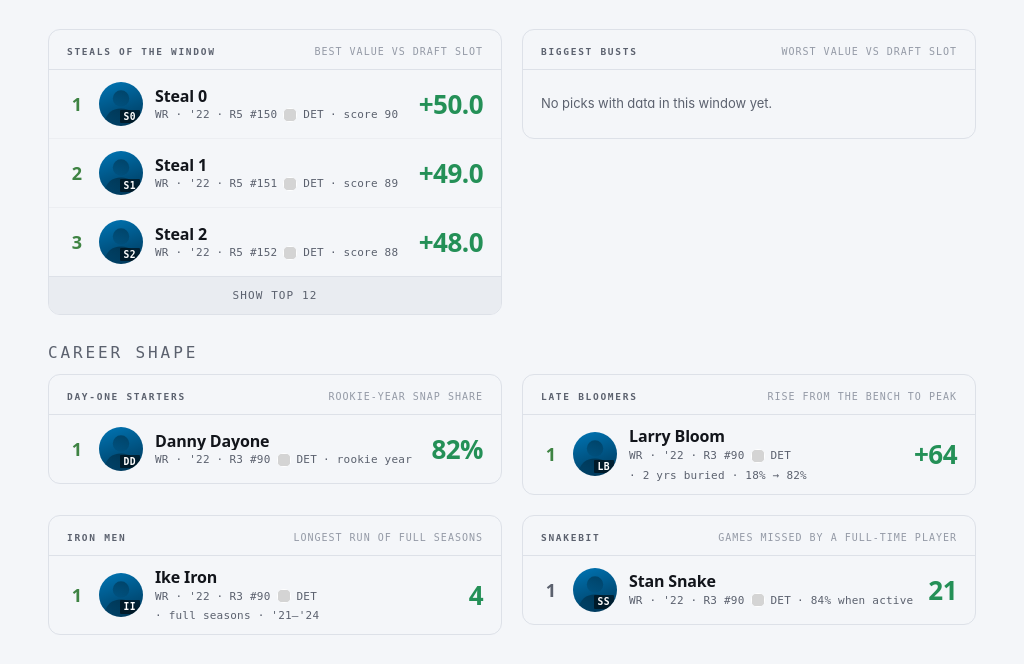
Test: HighlightsView › collapses long lists to three rows and expands on demand
(page scrolled)
Expected: the text "Steal 0" is shown, [155,85,207,107]
Expected: the text "Steal 2" is shown, [155,223,207,245]
What coordinates should you click on to do the following:
click the button "Show top 12"
I would click on:
 (275, 295)
Its box is [49,276,501,314].
(page scrolled)
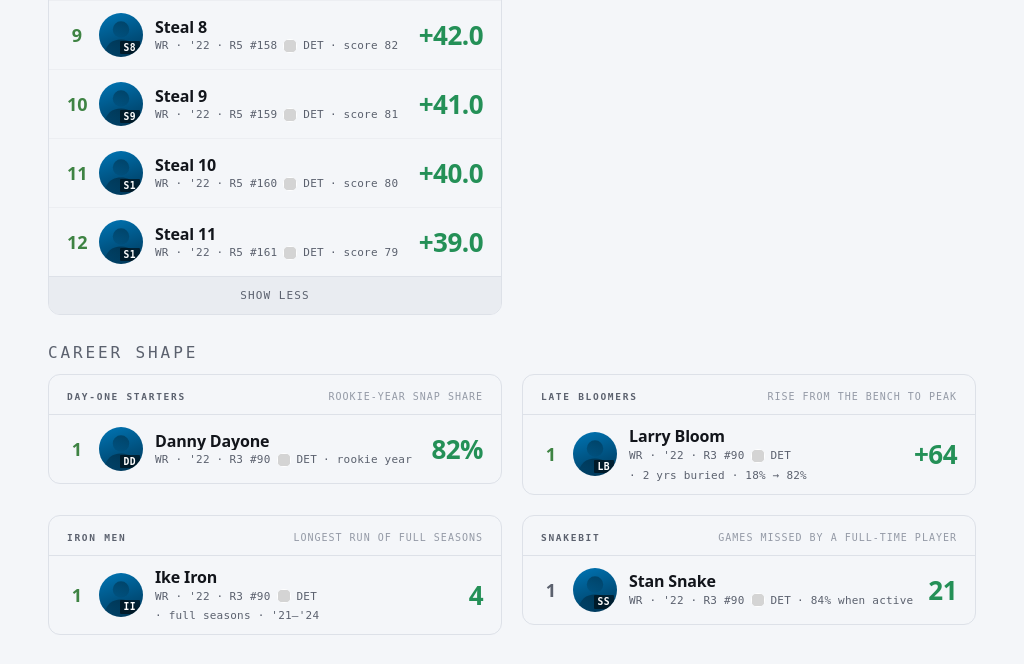
Now the text "Steal 11" is shown, box [155,223,216,245]
What coordinates should you click on to do the following:
click the button "Show less"
I would click on:
 (275, 295)
Its box is [49,276,501,314].
(page scrolled)
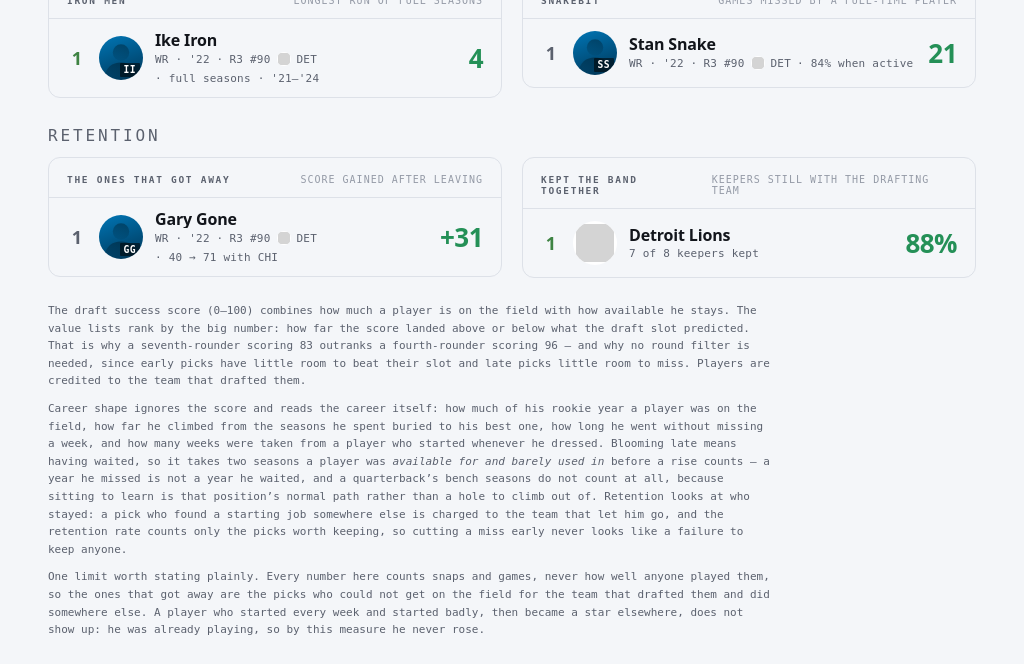
Now the button "Steal 11" is gone
